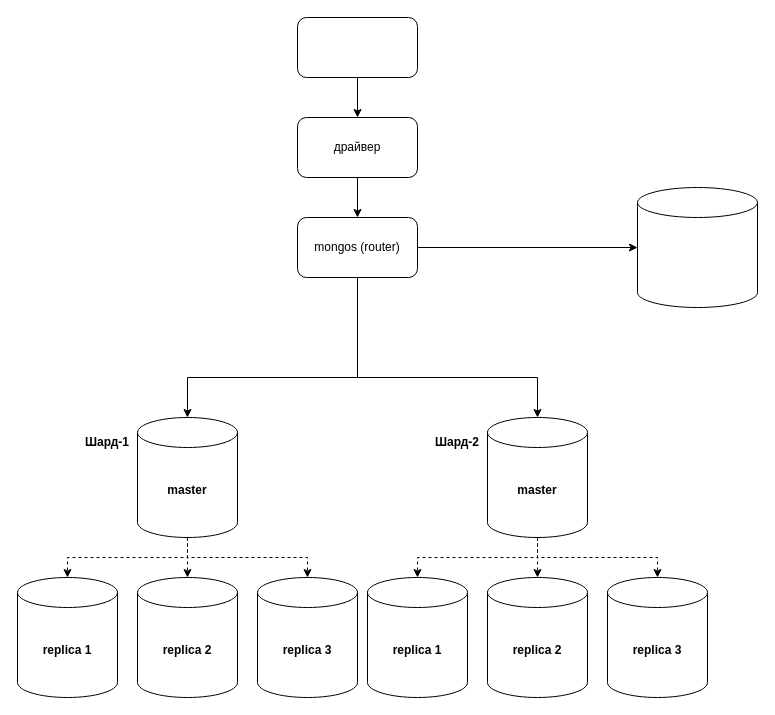
Image size: 775x715. Some labels were removed from this diagram. The shapes that lost their labels are listed below. From the top down, each one's centre as x and y in pixels, then its label:
At [357,47]: "pymongo-api".
At [697,247]: "configSrv Конфигурационный сервер".
